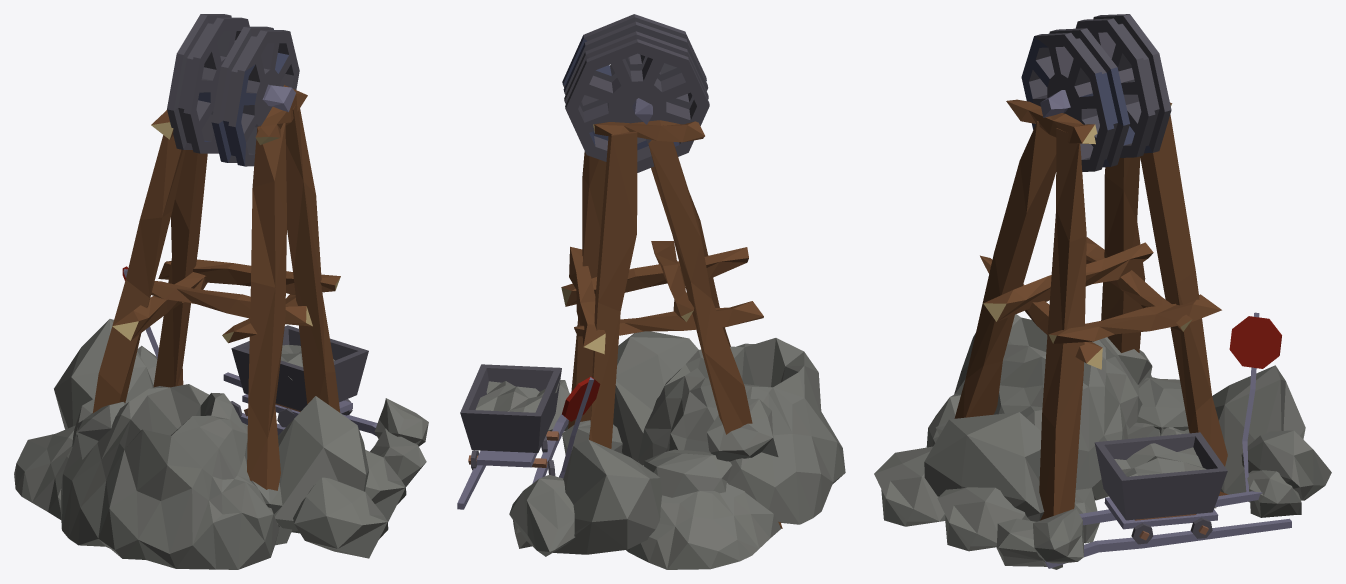
The model's file is mine.fbx.
3 views of the same model, side by side, from view 1: azimuth 30°, elevation 25°; view 2: azimuth 150°, elevation 25°; view 3: azimuth 270°, elevation 25° (orthographic). The views are drawn at different scales.
Parts seen in each view (by area): view 1: mine; view 2: mine; view 3: mine.
Part boxes in pixels (x1,y1,x2,y2): mine: (14, 14, 428, 569); mine: (457, 14, 845, 569); mine: (874, 14, 1331, 569).
Size of the model in its own units: 887 by 1143 by 985.
